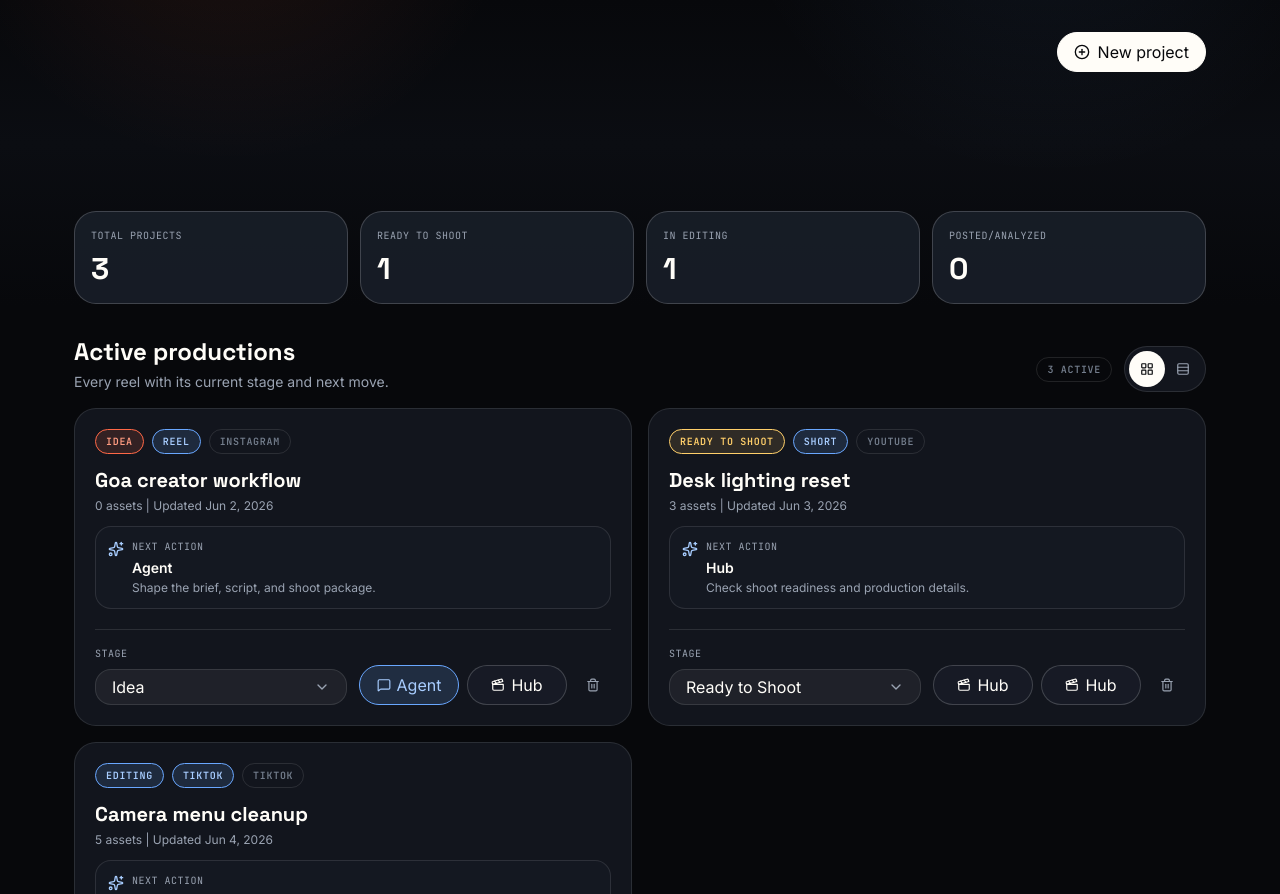
Test: HomePageClient › switches between expanded gallery and compact table views
Click the button named "compact table view" at (1183, 369), box x1=1165 y1=351 x2=1201 y2=387
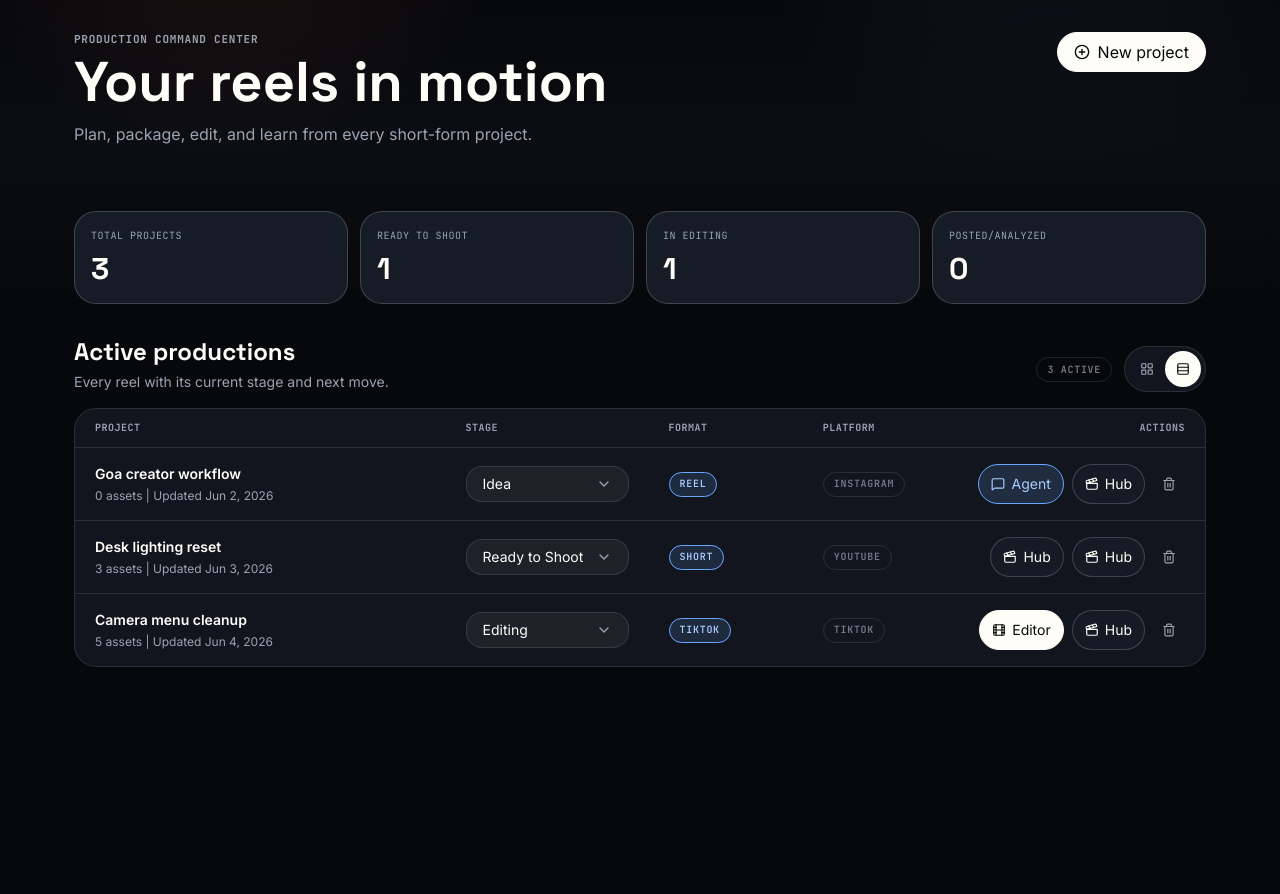
Result: the table named "production table" is shown at x1=75 y1=409 x2=1205 y2=666
